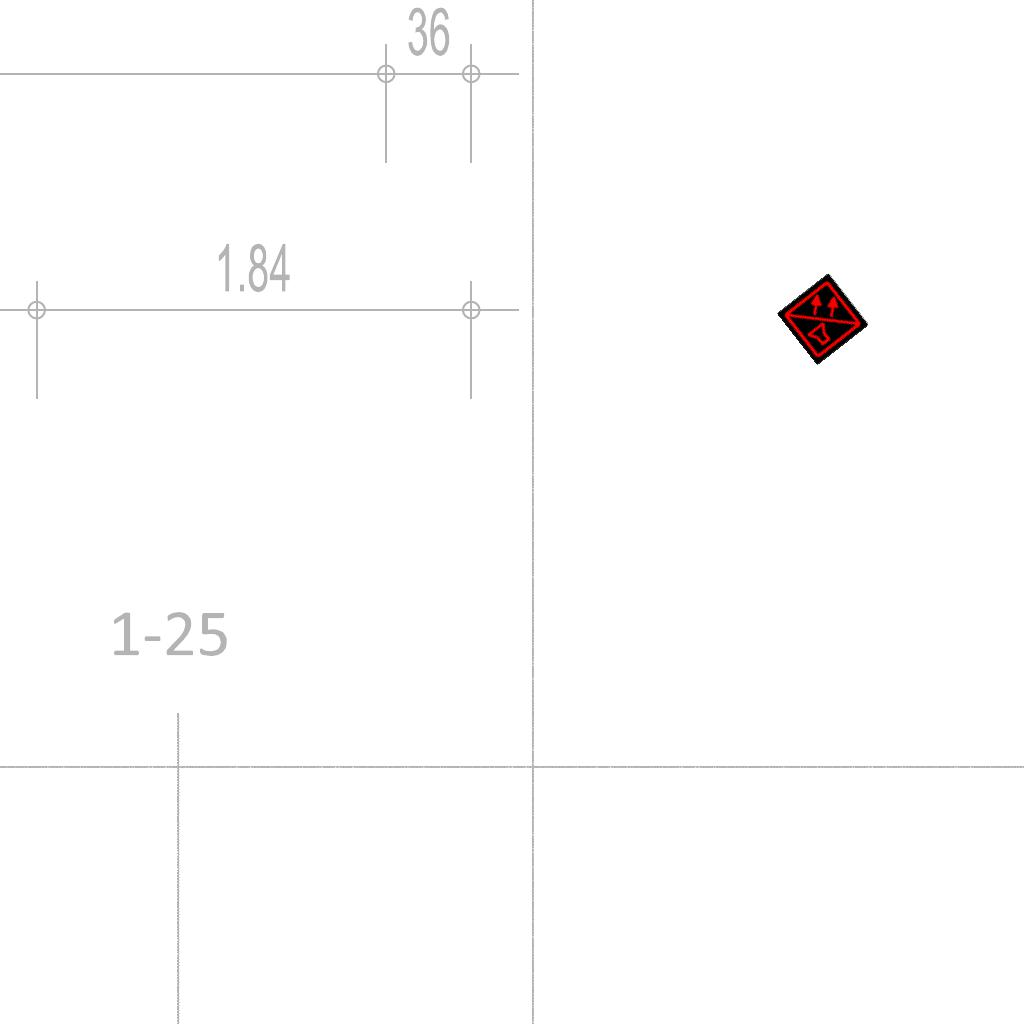OKW_Multisensormelder_(Kombination_optischer_Rauch-Kahlenmonoxid_Waerme-Melder): (776, 272, 870, 366)
